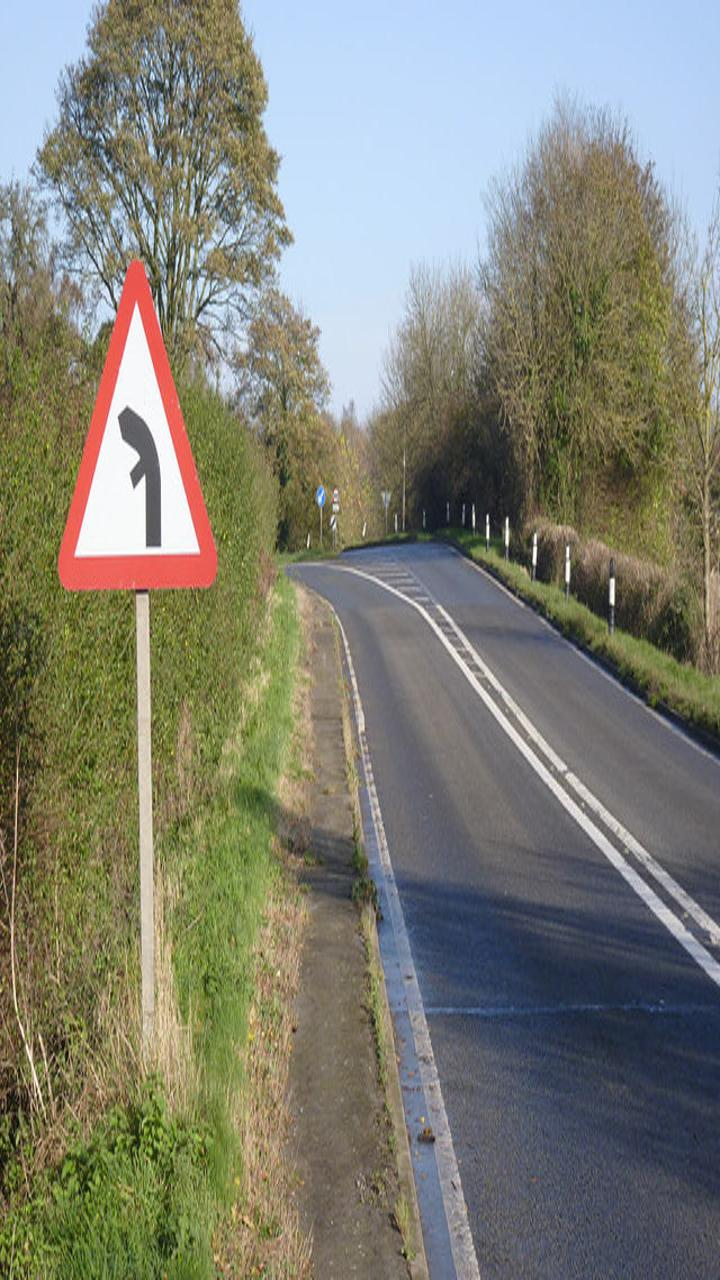Traffic sign: (24, 260, 228, 603)
